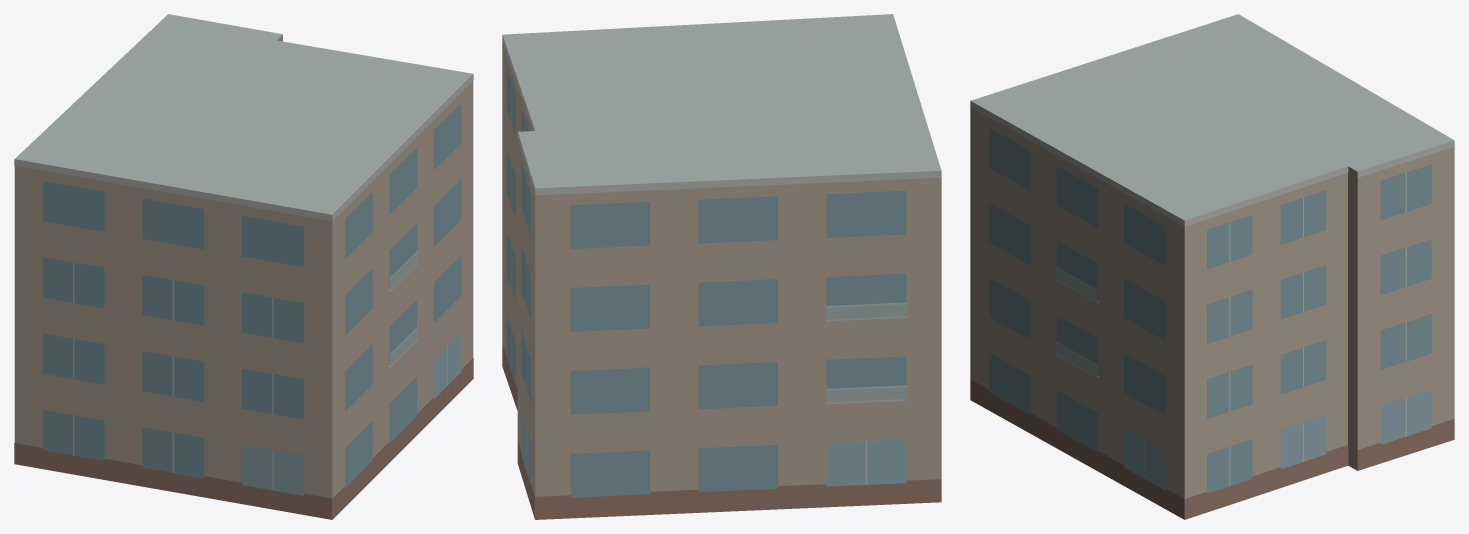
File: survey-upis-32819907.glb
The picture shows the model from 3 angles, left to right: view 1: azimuth 30°, elevation 25°; view 2: azimuth 150°, elevation 25°; view 3: azimuth 270°, elevation 25°; orthographic projection. The views are drawn at different scales.
Parts seen in each view (by area): view 1: survey-upis-32819907.tmp; view 2: survey-upis-32819907.tmp; view 3: survey-upis-32819907.tmp.
Part boxes in pixels (x1=…): survey-upis-32819907.tmp: x1=14, y1=14, x2=473, y2=519; survey-upis-32819907.tmp: x1=502, y1=14, x2=941, y2=519; survey-upis-32819907.tmp: x1=970, y1=14, x2=1454, y2=519.
Bounding box in the file's own units: 17.04 × 11.5 × 16.87.
